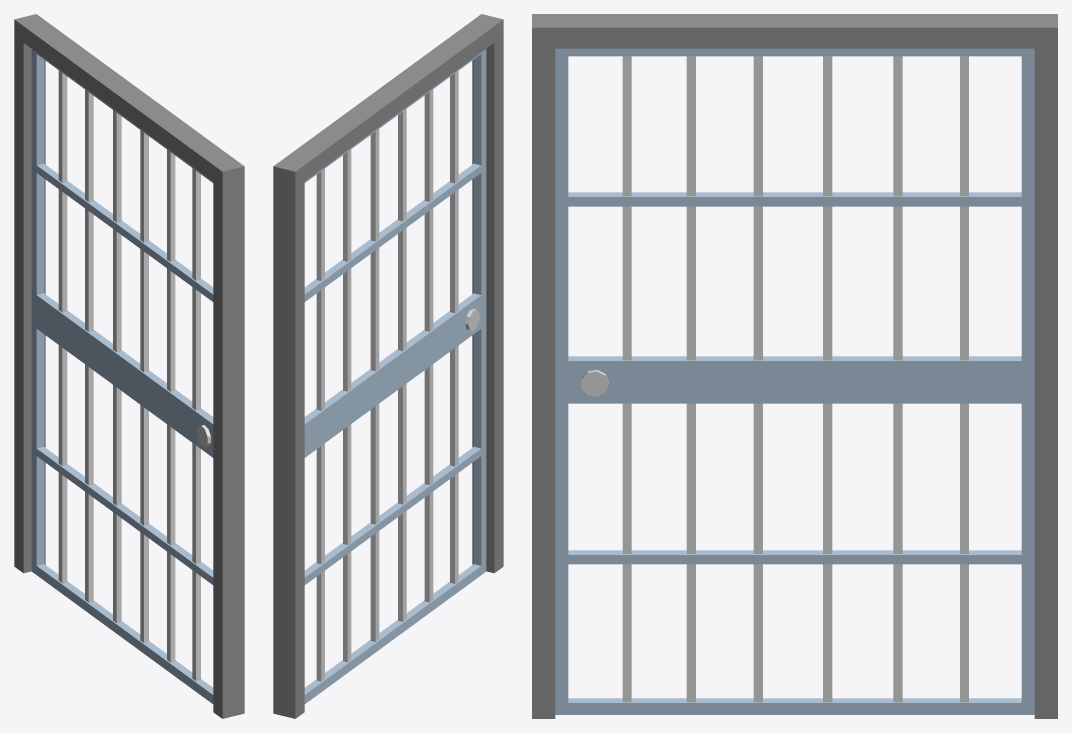
Rendered from DoorGrating1.fbx.
3 views of the same model, side by side, from view 1: azimuth 30°, elevation 25°; view 2: azimuth 150°, elevation 25°; view 3: azimuth 270°, elevation 25° (orthographic). The views are drawn at different scales.
Visible parts, largest first — view 1: DoorGrating1, DoorGratingFrame1; view 2: DoorGrating1, DoorGratingFrame1; view 3: DoorGrating1, DoorGratingFrame1.
Part boxes in pixels (x1=…): DoorGrating1: x1=31, y1=49, x2=213, y2=703; DoorGratingFrame1: x1=14, y1=14, x2=244, y2=718; DoorGrating1: x1=304, y1=49, x2=486, y2=703; DoorGratingFrame1: x1=273, y1=14, x2=503, y2=718; DoorGrating1: x1=555, y1=48, x2=1034, y2=714; DoorGratingFrame1: x1=532, y1=14, x2=1057, y2=718.
Bounding box in the file's own units: 19.14 × 452 × 312.
